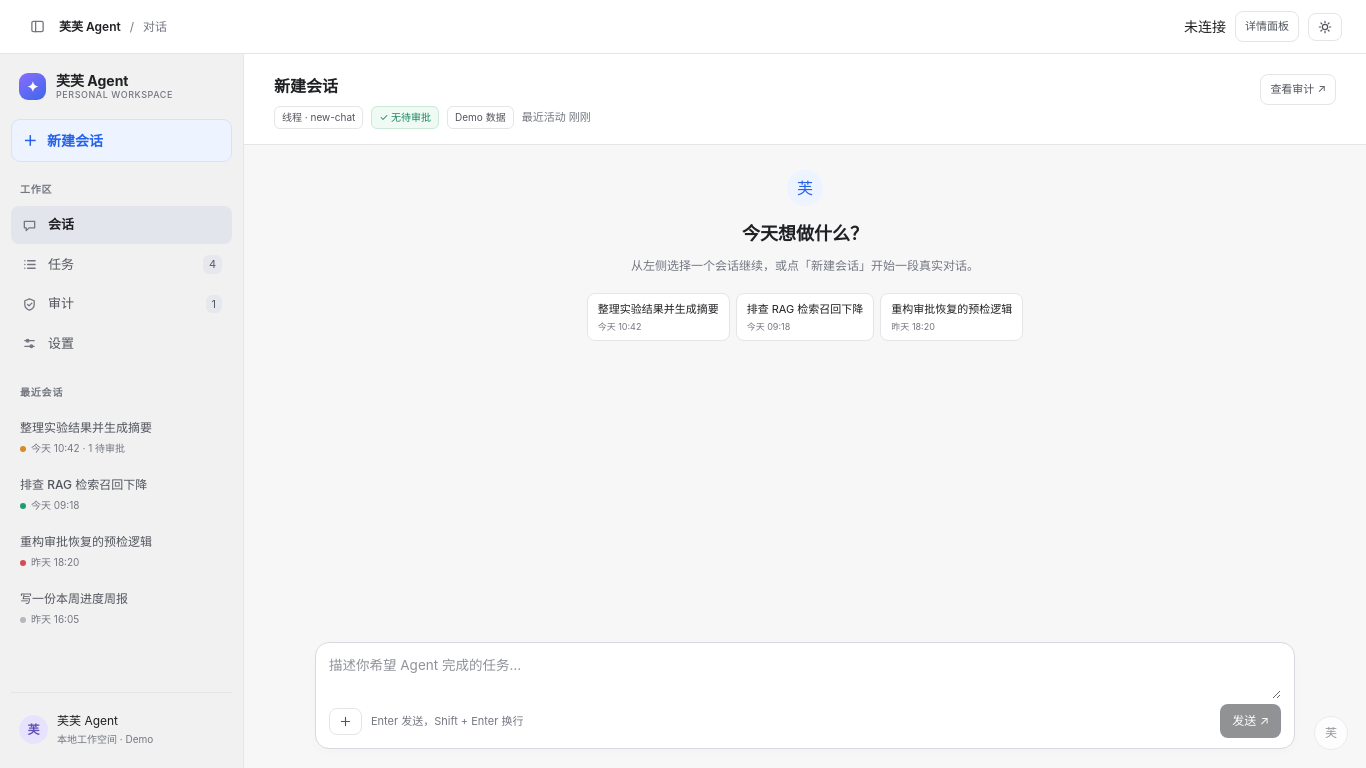
Scenario: App navigation › navigates to the tasks page from the sidebar
Click the link titled "任务".
click(30, 265)  # box top-left (22, 255), bottom-right (222, 274)
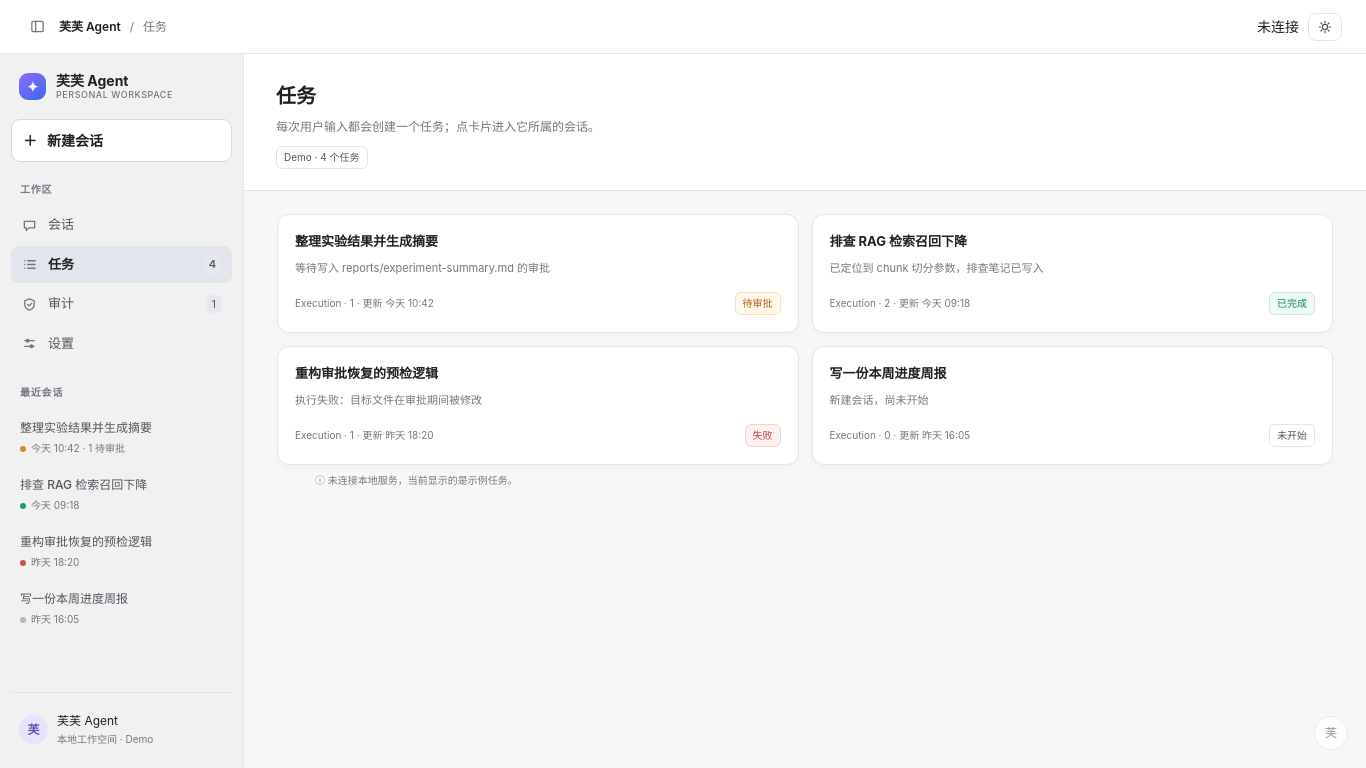
Check: the heading "任务" is shown, box top-left (276, 84), bottom-right (316, 108)
